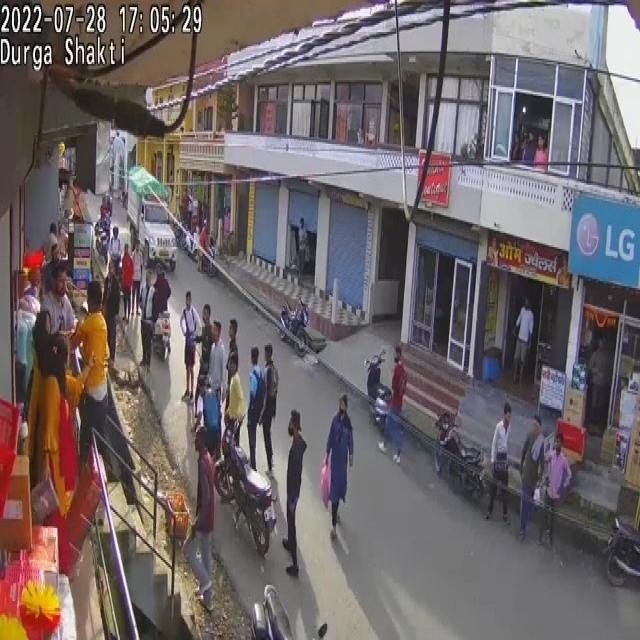fight: (9, 250, 149, 621), (8, 254, 127, 621), (26, 262, 86, 510)
non-fight: (70, 280, 134, 508), (184, 423, 217, 613), (323, 394, 353, 545), (282, 410, 307, 577), (540, 436, 572, 549), (518, 413, 546, 539), (486, 404, 514, 524), (382, 346, 407, 462), (223, 351, 246, 463), (246, 349, 266, 472), (260, 346, 278, 472), (180, 292, 200, 399), (511, 296, 533, 384), (102, 263, 121, 364), (207, 320, 226, 415), (196, 304, 213, 405), (120, 246, 134, 320), (225, 319, 239, 392), (491, 419, 510, 472), (197, 220, 208, 273)
